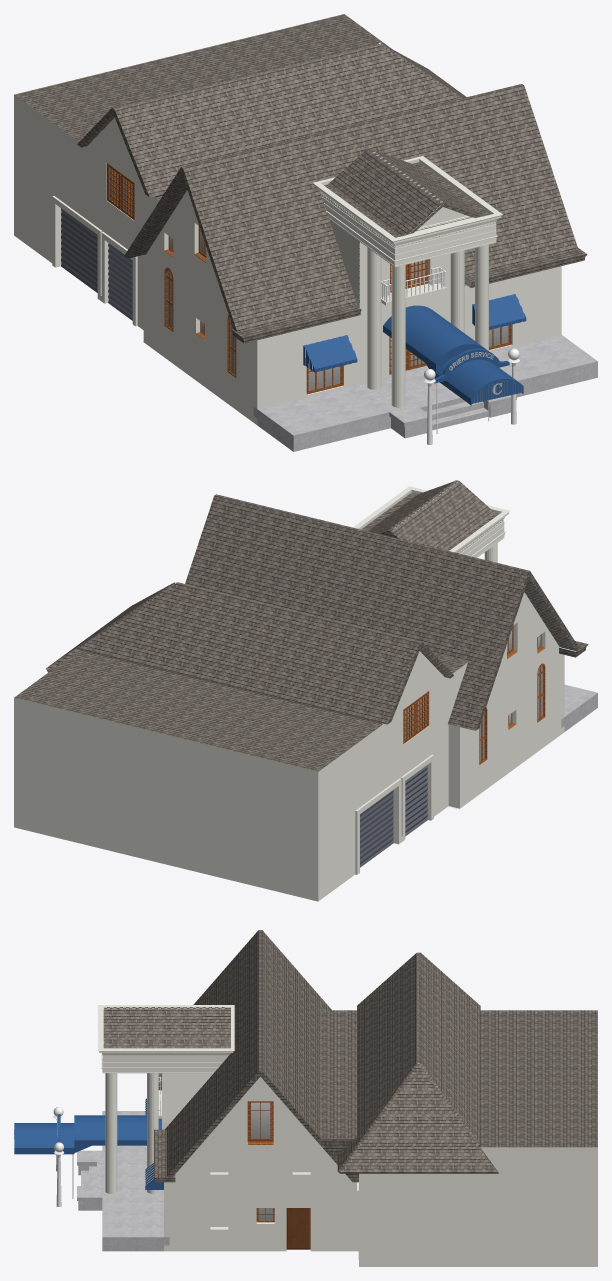
File: grier2.glb
The picture shows the model from 3 angles, top to bottom: view 1: azimuth 30°, elevation 25°; view 2: azimuth 150°, elevation 25°; view 3: azimuth 270°, elevation 25°; orthographic projection. The views are drawn at different scales.
Visible parts, largest first — view 1: SketchUp.001, SketchUp.257, SketchUp.011, SketchUp.006, SketchUp.019, SketchUp.025, SketchUp.024, instance_42, SketchUp.022, instance_43, SketchUp.029; view 2: SketchUp.011, SketchUp.001, SketchUp.019, instance_42, instance_43, SketchUp.006; view 3: SketchUp.011, SketchUp.001, SketchUp.257, SketchUp.006, SketchUp.019, SketchUp.025, SketchUp.024, SketchUp.014, SketchUp.016, instance_29.001.
Part boxes in pixels (x1,y1,x2,y2): SketchUp.001: [14, 95, 561, 424]; SketchUp.257: [183, 85, 586, 338]; SketchUp.011: [14, 14, 587, 343]; SketchUp.006: [253, 335, 597, 451]; SketchUp.019: [324, 148, 490, 237]; SketchUp.025: [383, 305, 483, 404]; SketchUp.024: [436, 344, 523, 405]; instance_42: [61, 208, 97, 292]; SketchUp.022: [391, 265, 405, 407]; instance_43: [108, 243, 132, 320]; SketchUp.029: [433, 348, 509, 383]; SketchUp.011: [14, 494, 588, 771]; SketchUp.001: [14, 486, 564, 901]; SketchUp.019: [361, 480, 498, 550]; instance_42: [360, 790, 393, 867]; instance_43: [405, 765, 427, 836]; SketchUp.006: [561, 684, 597, 731]; SketchUp.011: [154, 930, 597, 1182]; SketchUp.001: [98, 1005, 597, 1266]; SketchUp.257: [154, 930, 258, 1177]; SketchUp.006: [77, 1111, 169, 1251]; SketchUp.019: [103, 1007, 230, 1048]; SketchUp.025: [14, 1115, 161, 1154]; SketchUp.024: [14, 1123, 74, 1147]; SketchUp.014: [292, 1144, 310, 1174]; SketchUp.016: [210, 1144, 228, 1174]; instance_29.001: [247, 1101, 273, 1144].
Bounding box in the file's own units: 19.37 × 10.57 × 29.79.
Materials: 12 (8 with a texture image).
